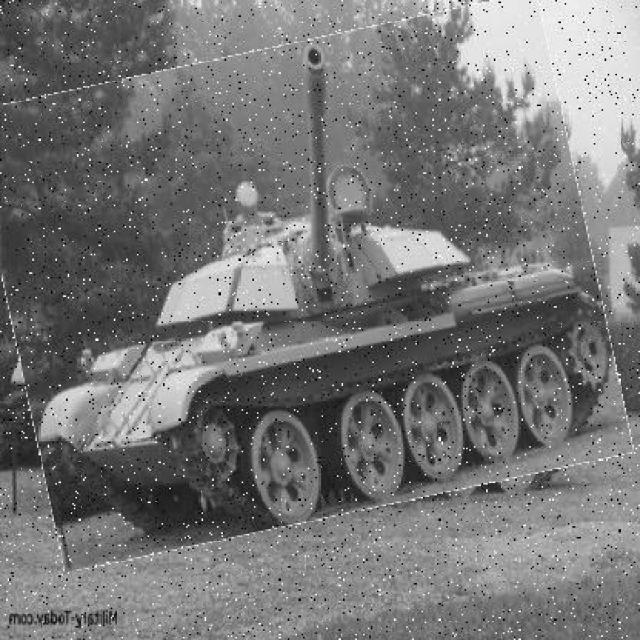Tank: (2, 20, 615, 547)
